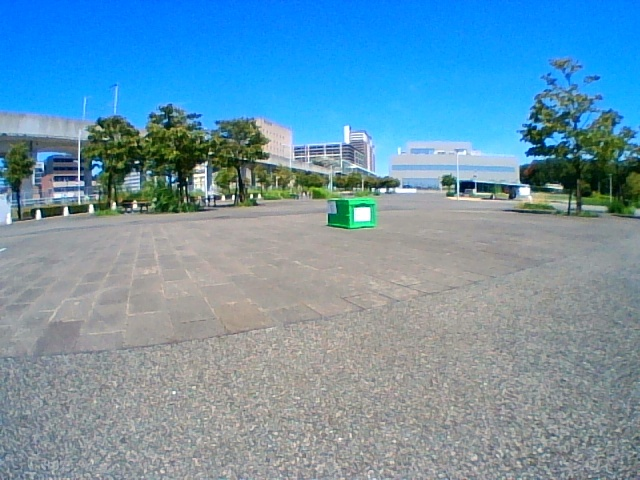green_box: (328, 199, 376, 229)
tag: (328, 201, 334, 212)
